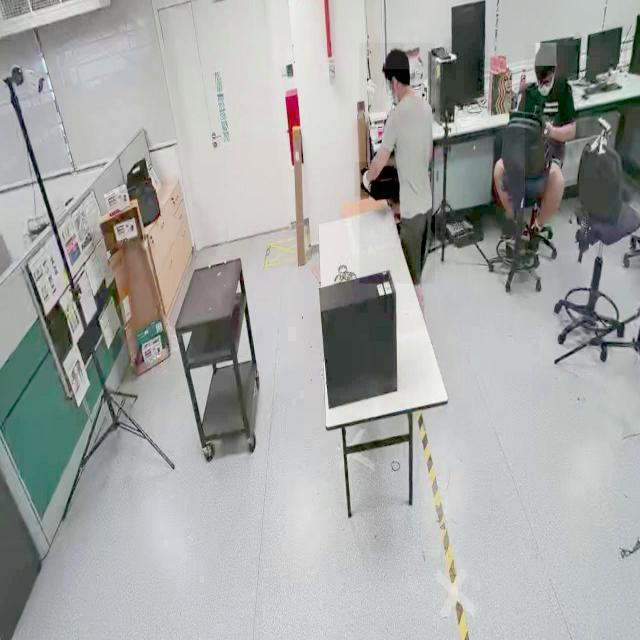hand_glove: (354, 162, 377, 197)
hand_noglove: (542, 116, 556, 138)
head_nohelmet: (384, 46, 410, 70), (535, 42, 557, 66)
person: (359, 43, 435, 284), (525, 45, 579, 252)
